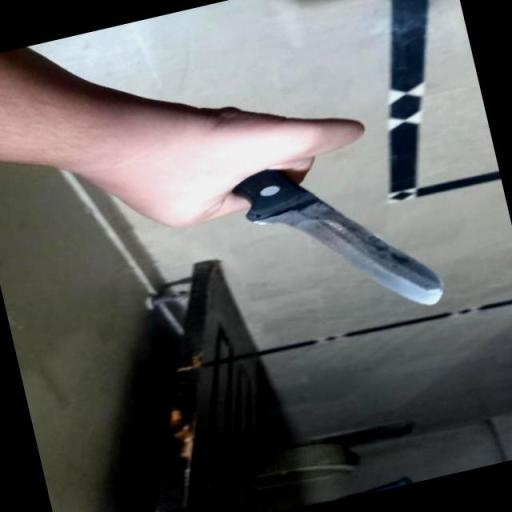knife: (226, 138, 448, 344)
